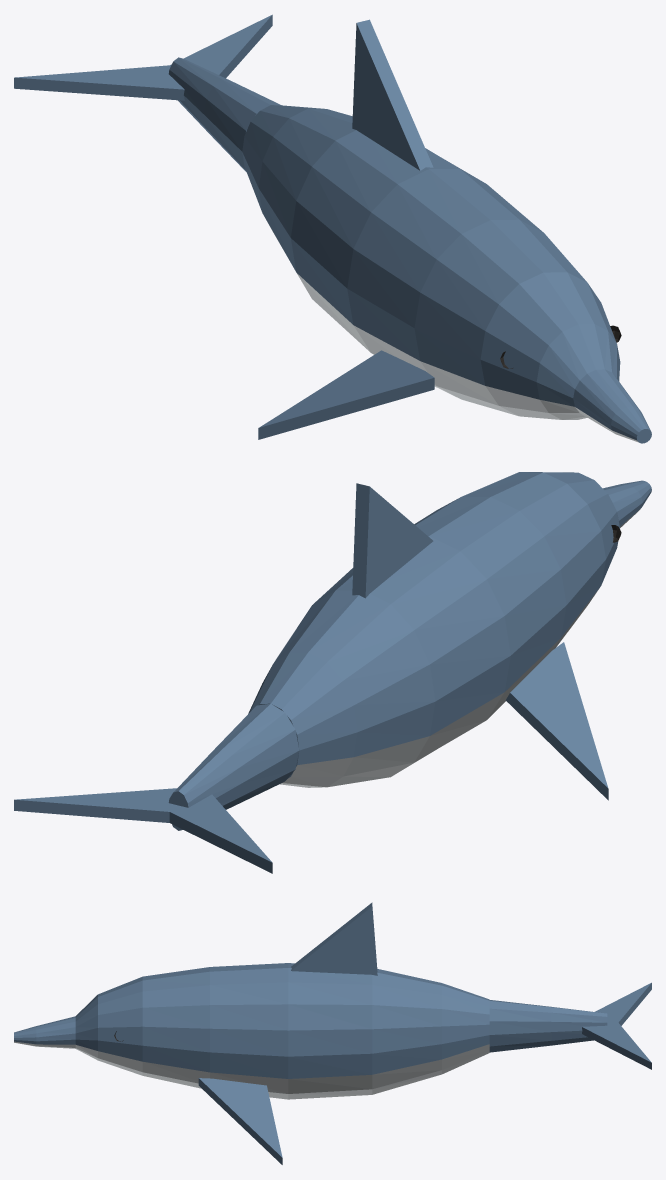
File: dauphin.glb
3 renders of one model, top to bottom at view 1: azimuth 30°, elevation 25°; view 2: azimuth 150°, elevation 25°; view 3: azimuth 270°, elevation 25°, orthographic. The views are drawn at different scales.
Parts seen in each view (by area): view 1: corps, queue; view 2: corps, queue; view 3: corps, queue.
Part boxes in pixels (box(x1,y1,x2,y2)): corps: box(242, 19, 651, 443); queue: box(14, 14, 281, 171); corps: box(248, 472, 651, 800); queue: box(14, 703, 299, 873); corps: box(14, 902, 489, 1164); queue: box(489, 982, 651, 1069).
Size of the model in its own units: 0.92 by 0.815 by 2.28.
